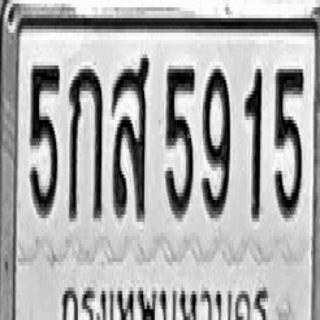A01: (68, 65, 103, 218)
A40: (111, 53, 149, 220)
N01: (244, 67, 262, 220)
N05: (29, 60, 59, 216), (274, 65, 304, 218), (165, 65, 195, 218)
N09: (202, 65, 230, 218)
